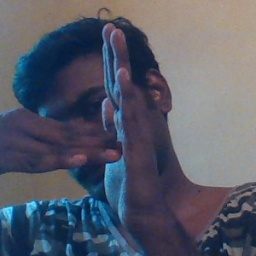Z: (34, 24, 165, 224)
